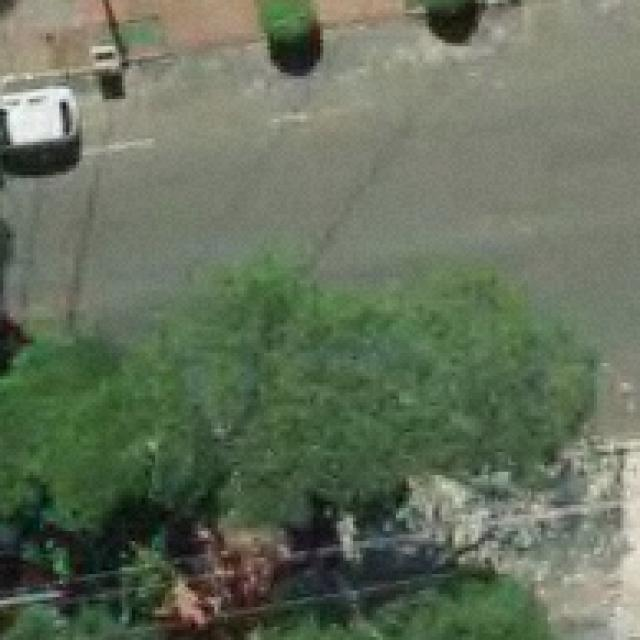trees: (1, 258, 598, 540), (254, 575, 559, 640), (258, 1, 324, 75), (410, 1, 483, 44), (25, 628, 138, 640)
